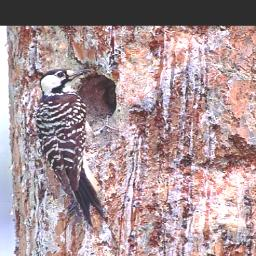Woodpecker: (36, 66, 106, 226)
